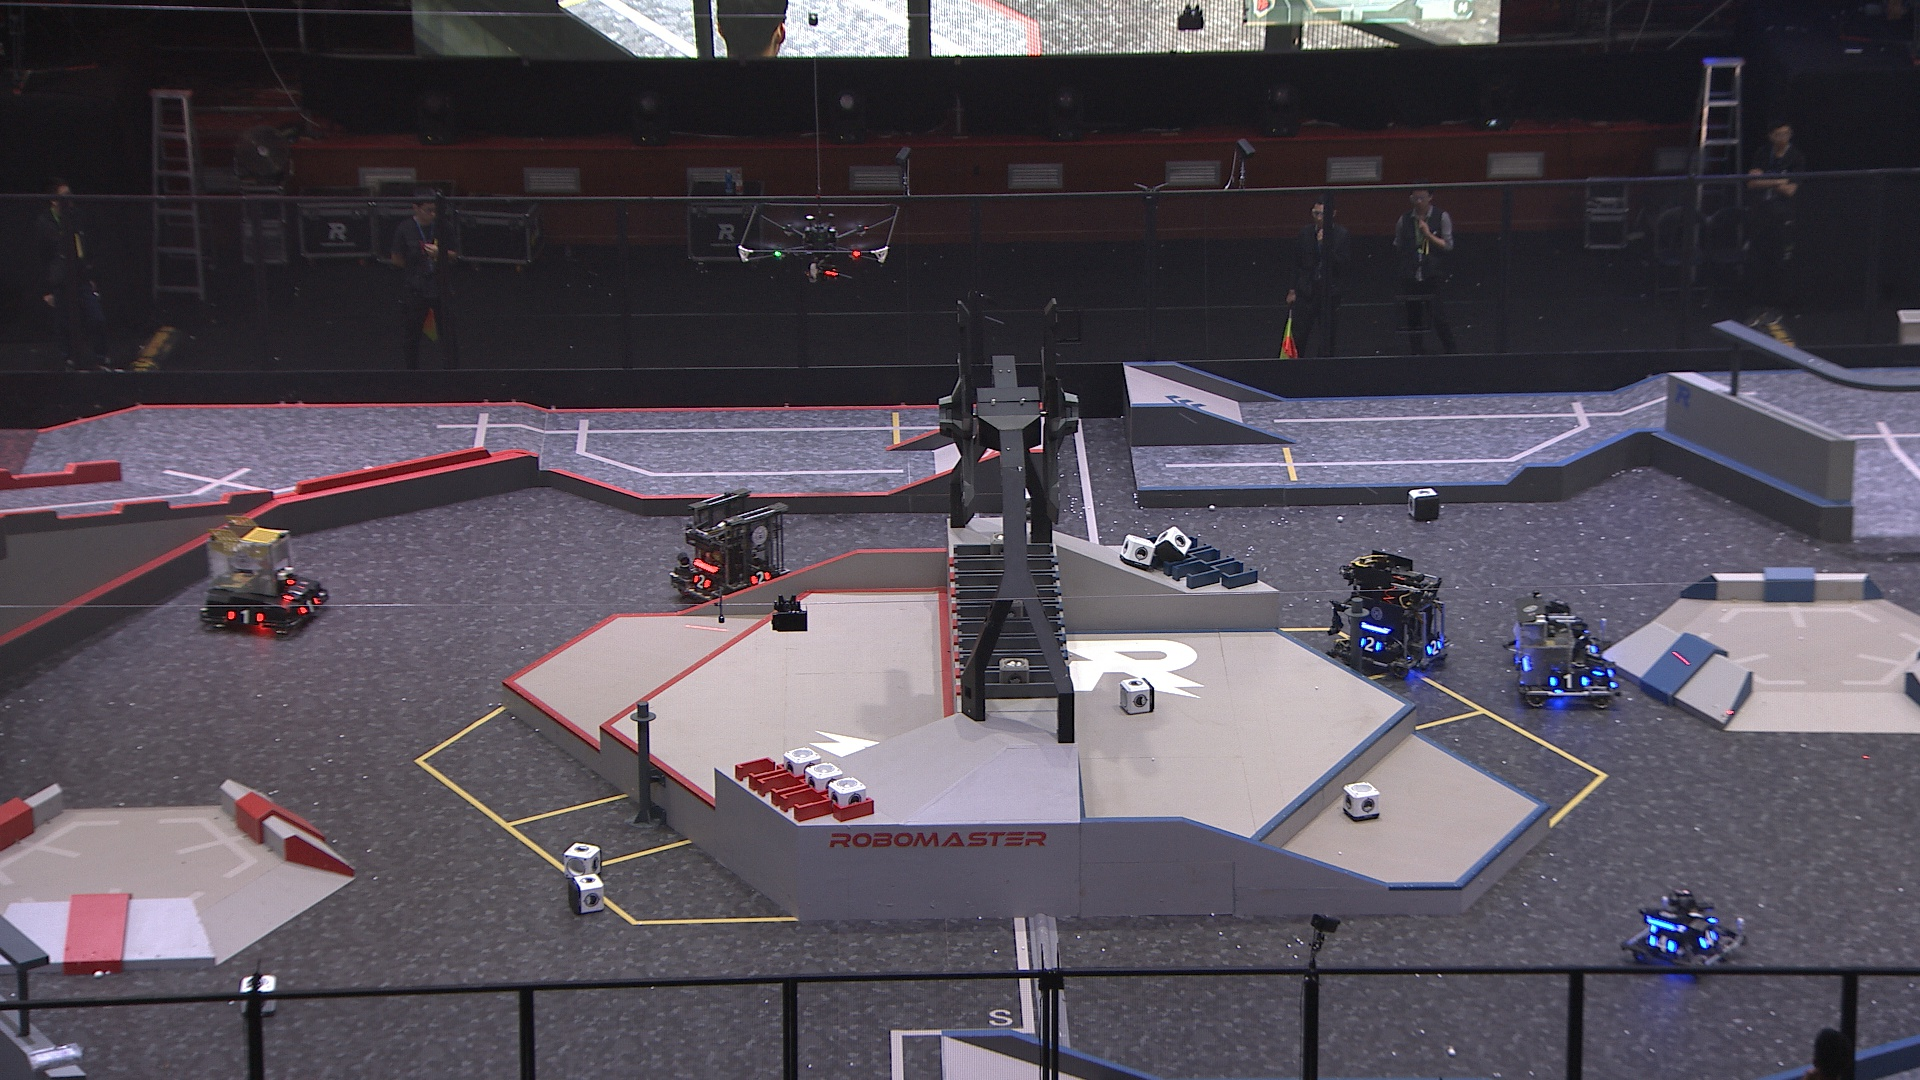armor: (1545, 670, 1589, 692), (224, 608, 262, 624), (1358, 633, 1385, 655), (1650, 935, 1679, 953), (1688, 907, 1717, 924), (284, 582, 305, 603), (299, 597, 320, 617), (690, 571, 712, 589), (749, 570, 773, 585), (1698, 927, 1716, 948), (1425, 637, 1444, 655), (1582, 640, 1600, 657)
car: (1329, 546, 1452, 680), (196, 517, 332, 637), (670, 488, 793, 611), (1509, 593, 1619, 709), (1625, 887, 1743, 977), (1547, 597, 1621, 669)
